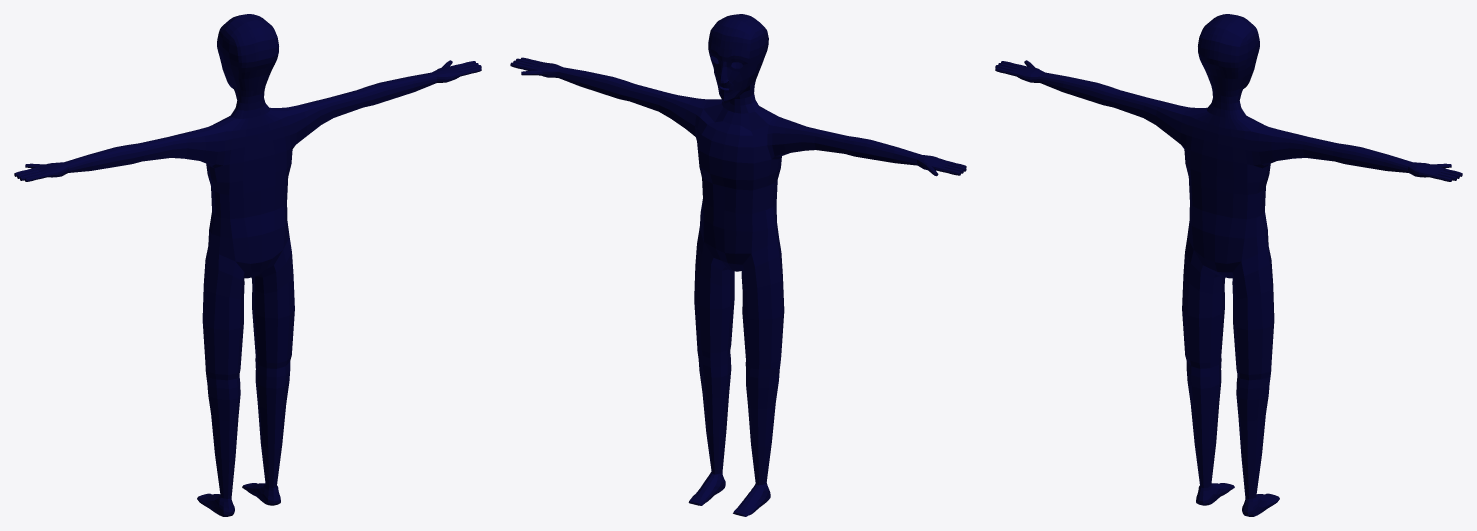
File: prueba003.obj
3 renders of one model, left to right at view 1: azimuth 30°, elevation 25°; view 2: azimuth 150°, elevation 25°; view 3: azimuth 330°, elevation 25°, orthographic. The views are drawn at different scales.
Visible parts, largest first — view 1: Plane_Plane.001; view 2: Plane_Plane.001; view 3: Plane_Plane.001.
Boxes of the visible parts, x1,y1,x2,y2 form: Plane_Plane.001: (14,14,481,516); Plane_Plane.001: (510,14,966,516); Plane_Plane.001: (995,14,1462,516).
Size of the model in its own units: 6.92 by 7.05 by 0.9805.
